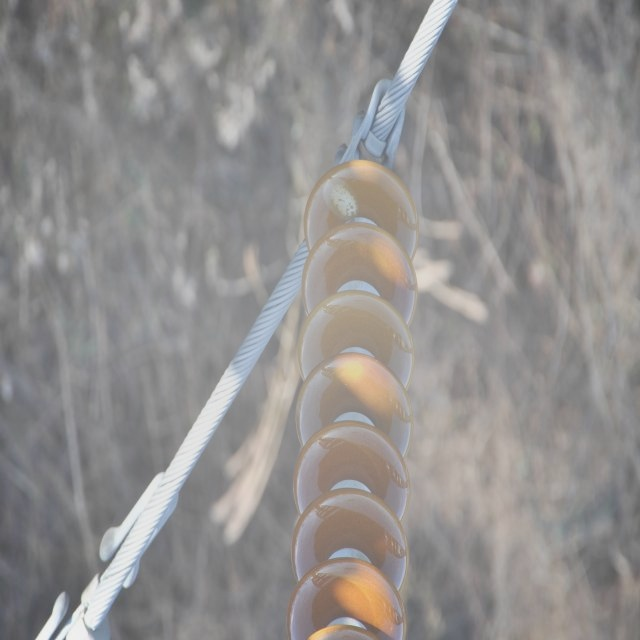insulator: (284, 162, 420, 640)
